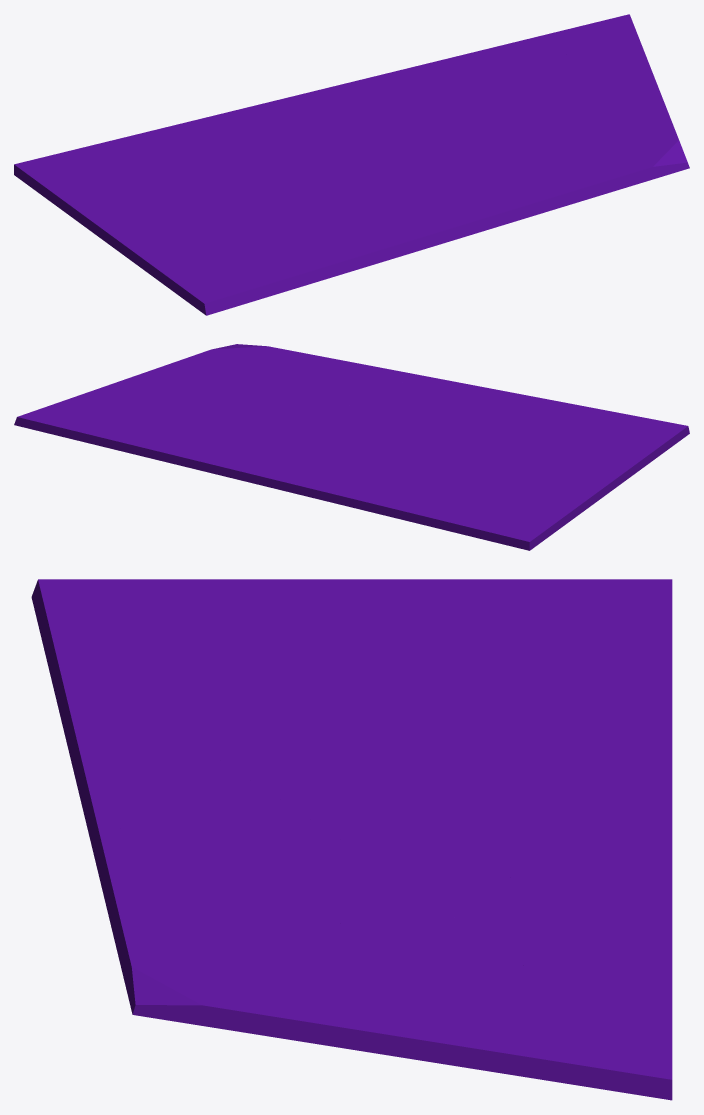
File: Exhibition_18.001_1_chunks.fbx
The picture shows the model from 3 angles, top to bottom: view 1: azimuth 30°, elevation 25°; view 2: azimuth 150°, elevation 25°; view 3: azimuth 270°, elevation 25°; orthographic projection. The views are drawn at different scales.
Parts seen in each view (by area): view 1: Exhibition_18.001_1_8, Exhibition_18.001_1_6, Exhibition_18.001_1_1, Exhibition_18.001_1_3, Exhibition_18.001_1_4, Exhibition_18.001_1_0, Exhibition_18.001_1_7, Exhibition_18.001_1_5, Exhibition_18.001_1_9; view 2: Exhibition_18.001_1_8, Exhibition_18.001_1_6, Exhibition_18.001_1_4, Exhibition_18.001_1_3, Exhibition_18.001_1_1, Exhibition_18.001_1_0, Exhibition_18.001_1_7, Exhibition_18.001_1_5, Exhibition_18.001_1_9; view 3: Exhibition_18.001_1_8, Exhibition_18.001_1_6, Exhibition_18.001_1_3, Exhibition_18.001_1_1, Exhibition_18.001_1_4, Exhibition_18.001_1_0, Exhibition_18.001_1_7, Exhibition_18.001_1_5, Exhibition_18.001_1_9.
Part boxes in pixels (x1,y1,x2,y2): Exhibition_18.001_1_8: (14,132,282,302); Exhibition_18.001_1_6: (146,94,435,197); Exhibition_18.001_1_1: (453,126,689,235); Exhibition_18.001_1_3: (506,14,673,143); Exhibition_18.001_1_4: (302,18,610,112); Exhibition_18.001_1_0: (289,157,489,283); Exhibition_18.001_1_7: (189,208,352,315); Exhibition_18.001_1_5: (341,109,550,158); Exhibition_18.001_1_9: (280,183,403,224); Exhibition_18.001_1_8: (420,432,678,550); Exhibition_18.001_1_6: (287,415,473,524); Exhibition_18.001_1_4: (32,417,304,491); Exhibition_18.001_1_3: (14,357,270,429); Exhibition_18.001_1_1: (190,344,419,410); Exhibition_18.001_1_0: (337,375,607,416); Exhibition_18.001_1_7: (492,411,689,443); Exhibition_18.001_1_5: (237,387,341,463); Exhibition_18.001_1_9: (399,413,494,446); Exhibition_18.001_1_8: (74,579,672,715); Exhibition_18.001_1_6: (284,686,672,842); Exhibition_18.001_1_3: (254,922,672,1100); Exhibition_18.001_1_1: (86,824,326,1035); Exhibition_18.001_1_4: (466,813,672,1064); Exhibition_18.001_1_0: (53,653,344,851); Exhibition_18.001_1_7: (31,579,298,735); Exhibition_18.001_1_5: (295,821,576,923); Exhibition_18.001_1_9: (182,705,336,801).
Bounding box in the file's own units: 979 × 16.07 × 527.
